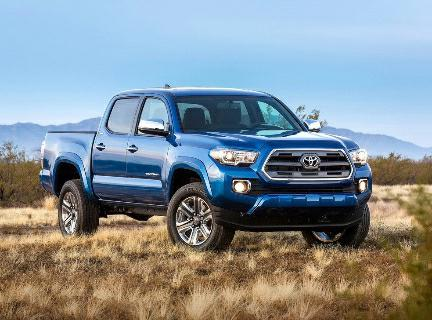丰田-Tacoma: (32, 78, 382, 256)
